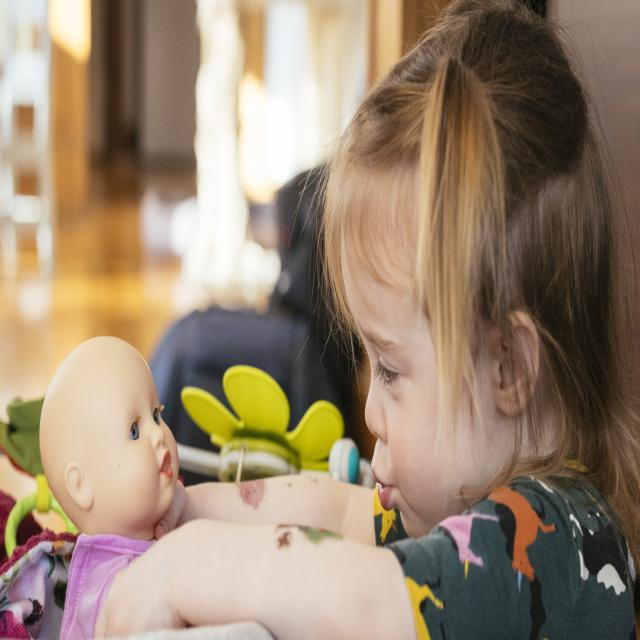child: (90, 0, 640, 640)
